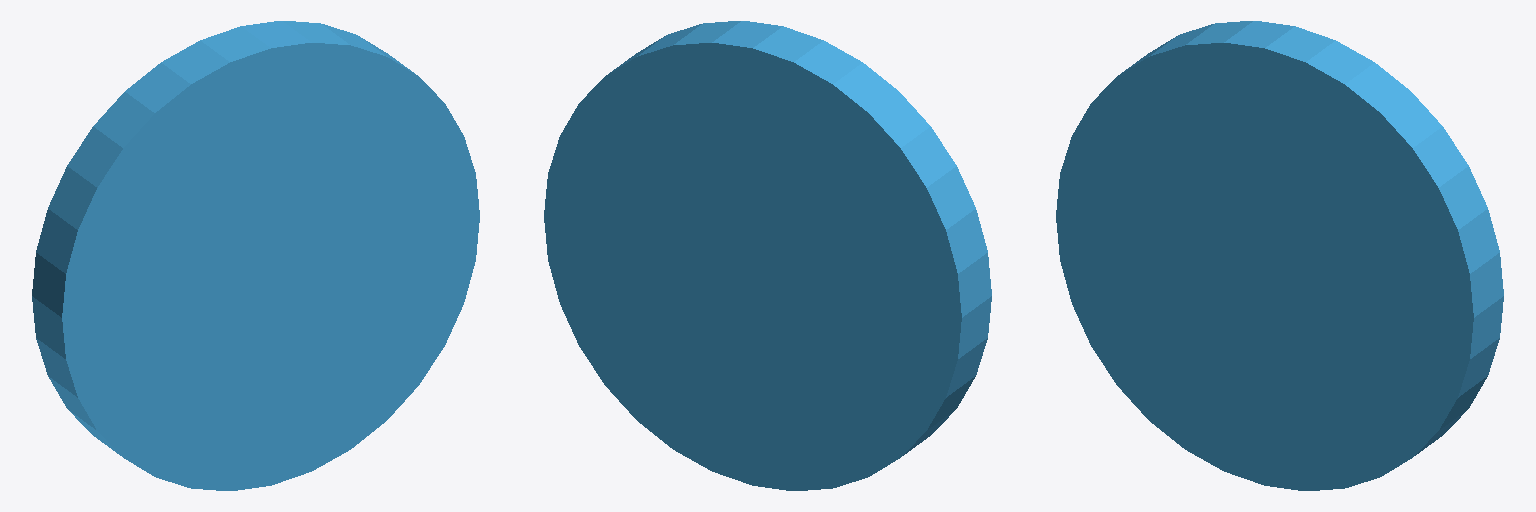
robot.urdf — charge_board:
<?xml version="1.0" ?>
<robot name="charge_board">
    <link name="world"/>
    <link name="door" >
        <visual>
            <origin xyz="0.04 0 0" rpy="1.57079632679 0 0" />
            <geometry>
                <cylinder radius="0.04" length="0.01" />
            </geometry>
        </visual>
        <collision>
            <origin xyz="0.04 0 0" rpy="1.57079632679 0 0" />
            <geometry>
                <cylinder radius="0.04" length="0.01" />
            </geometry>
        </collision>
        <inertial>
            <origin rpy="0 0 0" xyz="0 0 0"/>
            <mass value="1.0"/>
            <inertia ixx="0.048966669" ixy="0" ixz="0" iyy="0.046466667" iyz="0" izz="0.0041666669"/>
        </inertial>
    </link>
    <link name="door_base">
        <inertial>
            <origin rpy="0 0 0" xyz="0 0 0"/>
            <mass value="1.0"/>
            <inertia ixx="1" ixy="0" ixz="0" iyy="1" iyz="0" izz="1"/>
        </inertial>
    </link>
    <joint name="fixed" type="fixed">
        <parent link="world"/>
        <child link="door_base"/>
        <origin xyz="0.04 0 0"/>
    </joint>
    <joint name="door_hinge" type="revolute">
        <parent link="door_base"/>
        <child link="door"/>
        <dynamics damping="1.0" friction="0.0001"/>
        <origin xyz="0.0 0 0"/>
		<axis xyz="0 0 1"/>
        <limit lower="-2.09439510239" upper="0" />
    </joint>
</robot>

--- Facts derived from the render (not from the file) ---
Views: 3 orthographic renders of the robot side by side, from view 1: azimuth 30°, elevation 25°; view 2: azimuth 150°, elevation 25°; view 3: azimuth 330°, elevation 25°.
Robot: charge_board — 3 links, 2 joints (1 revolute, 1 fixed); root link world; default pose: all joints at 0.
Links seen in each view (by area): view 1: door; view 2: door; view 3: door.
Boxes of the visible links, x1,y1,x2,y2 form: door: (32,21,479,490); door: (544,21,991,490); door: (1056,21,1503,490).
Bounding box of the posed robot: 0.08 × 0.01 × 0.08 m (x, y, z).
Geometry: primitives only (box / cylinder / sphere), no mesh files.